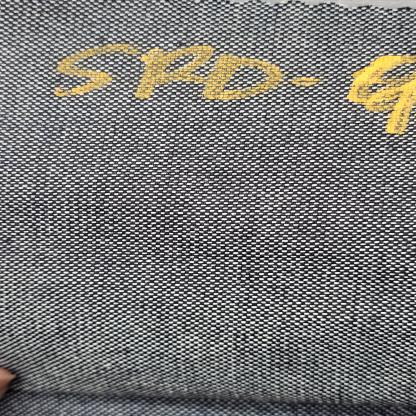spot: (41, 48, 416, 142)
